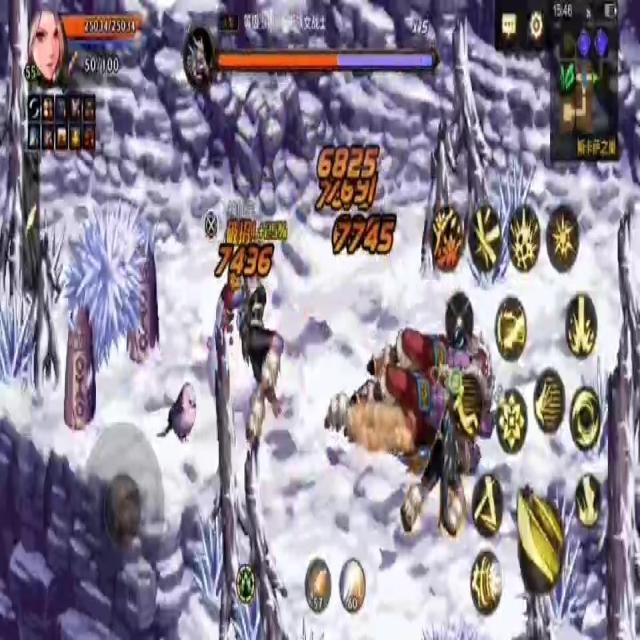player: (211, 267, 257, 437)
